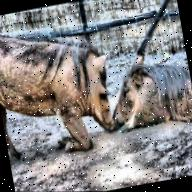boar: (0, 10, 119, 174), (103, 44, 192, 145)
